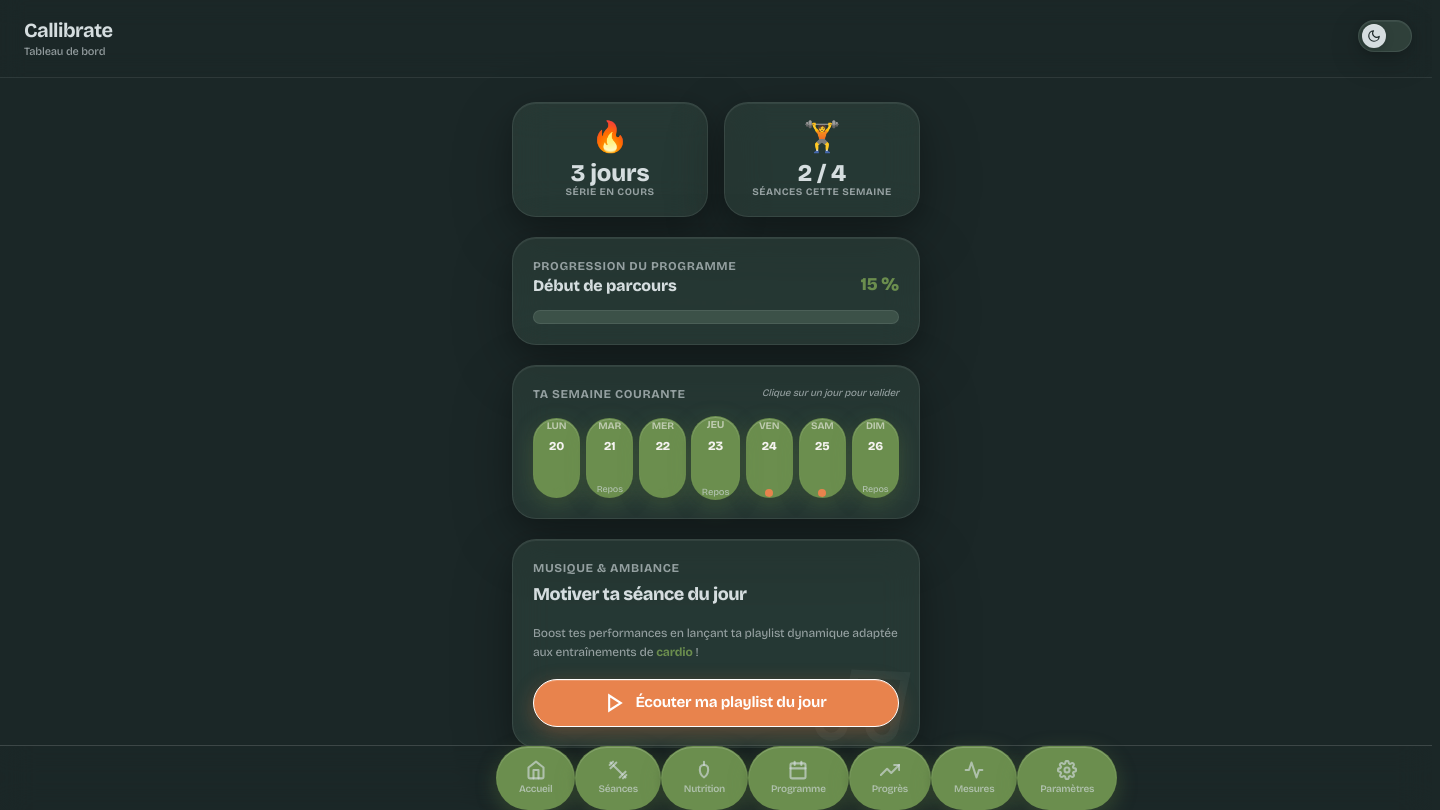
Scenario: Phase 3 — Tests Unitaires & Intégration › MobileDashboardPlaceholder › affiche le calendrier hebdomadaire interactif cliquable et met à jour les séances
Check: the text "Lun" is shown, box [547,418,566,434]
Check: the text "Mar" is shown, box [598,418,621,434]
Click the button "Mar 21 Repos" at (610, 458), box [586,418,633,498]
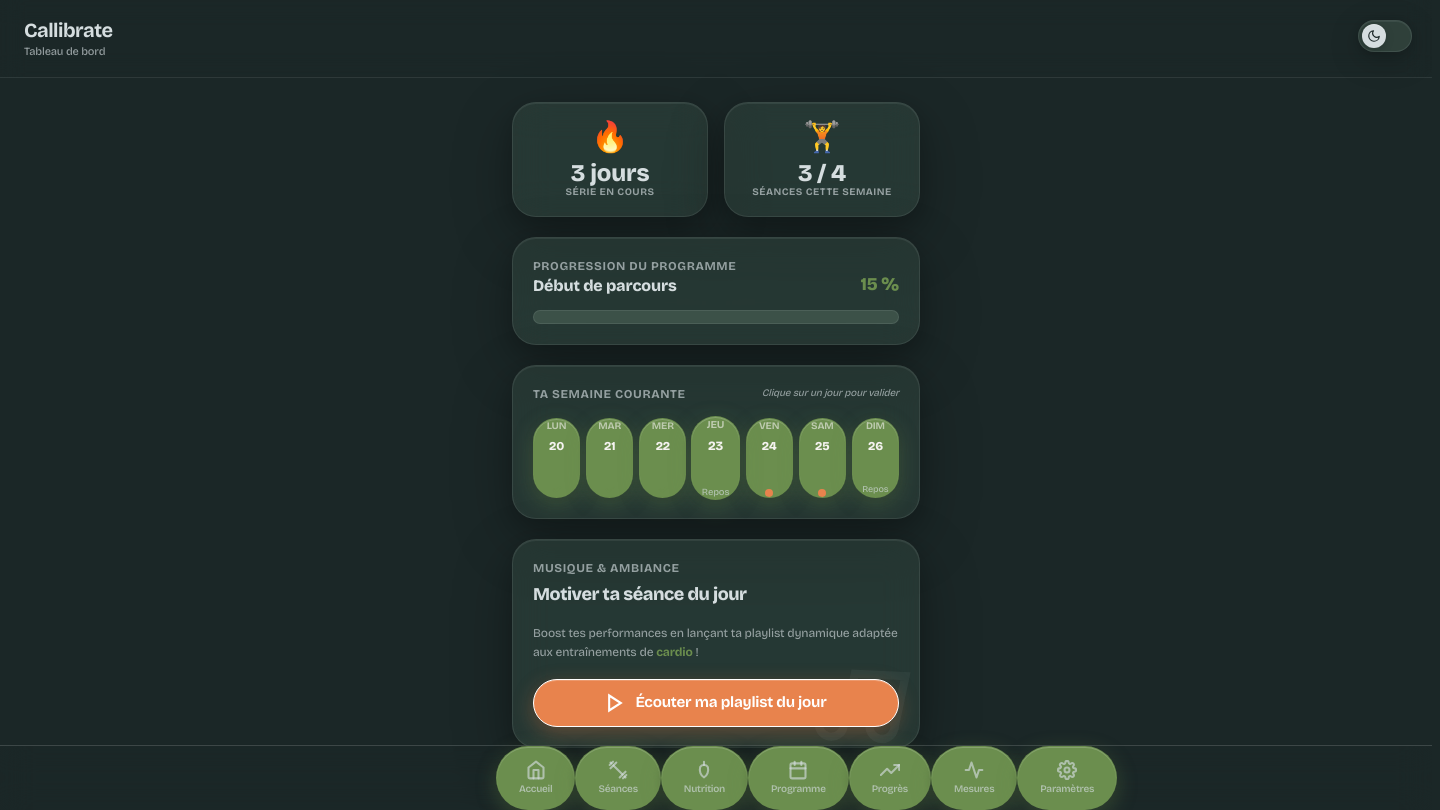
Check: the text "3 / 4" is shown, box [798,158,846,186]
